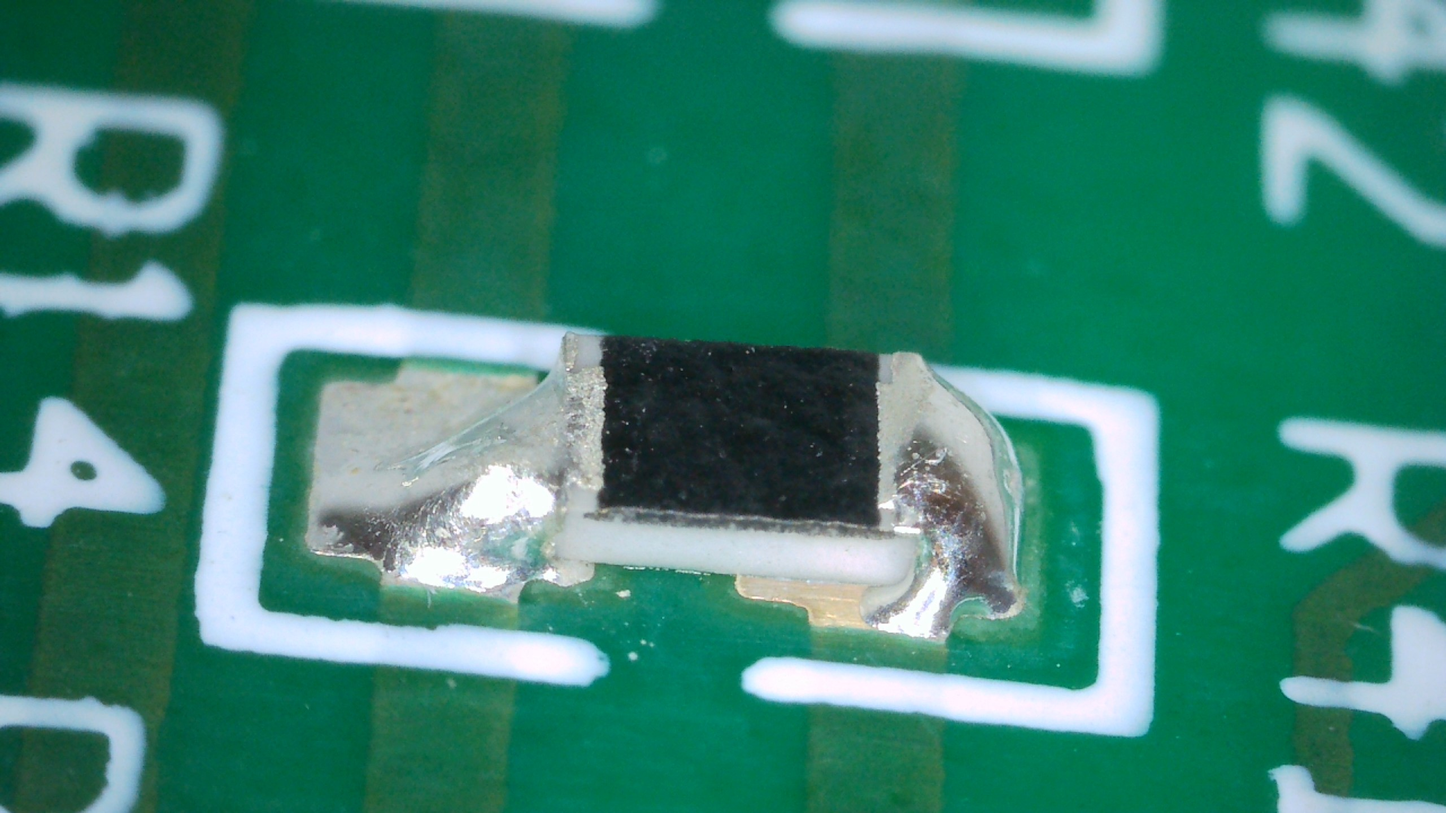NG: (311, 332, 601, 592), (858, 354, 1025, 637)
